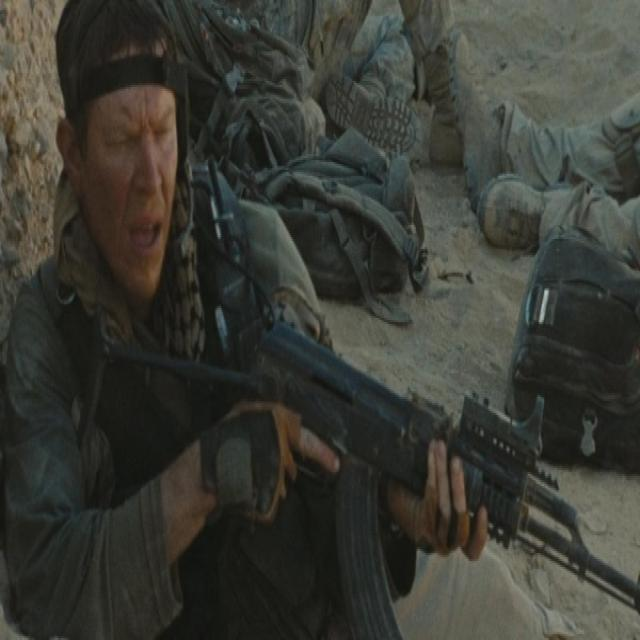rifle: (223, 293, 640, 640)
